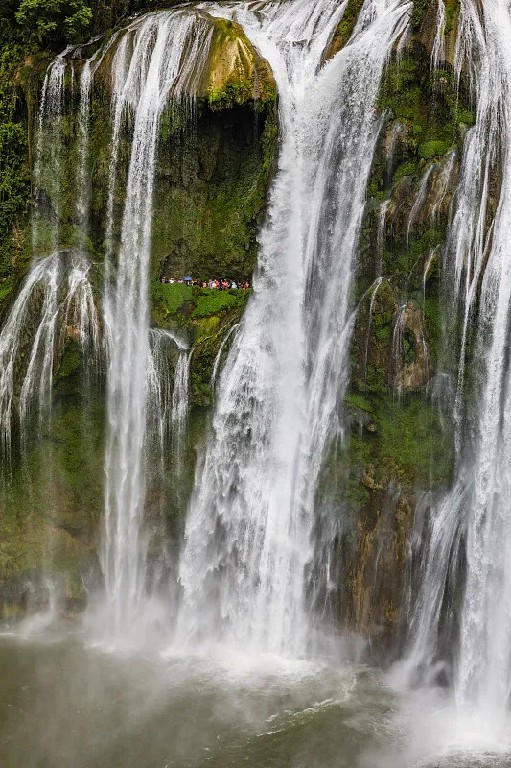Huangguoshu: (41, 1, 508, 679)
